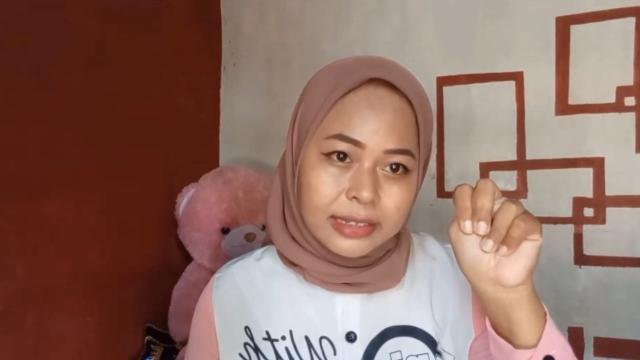N: (448, 176, 544, 290)
